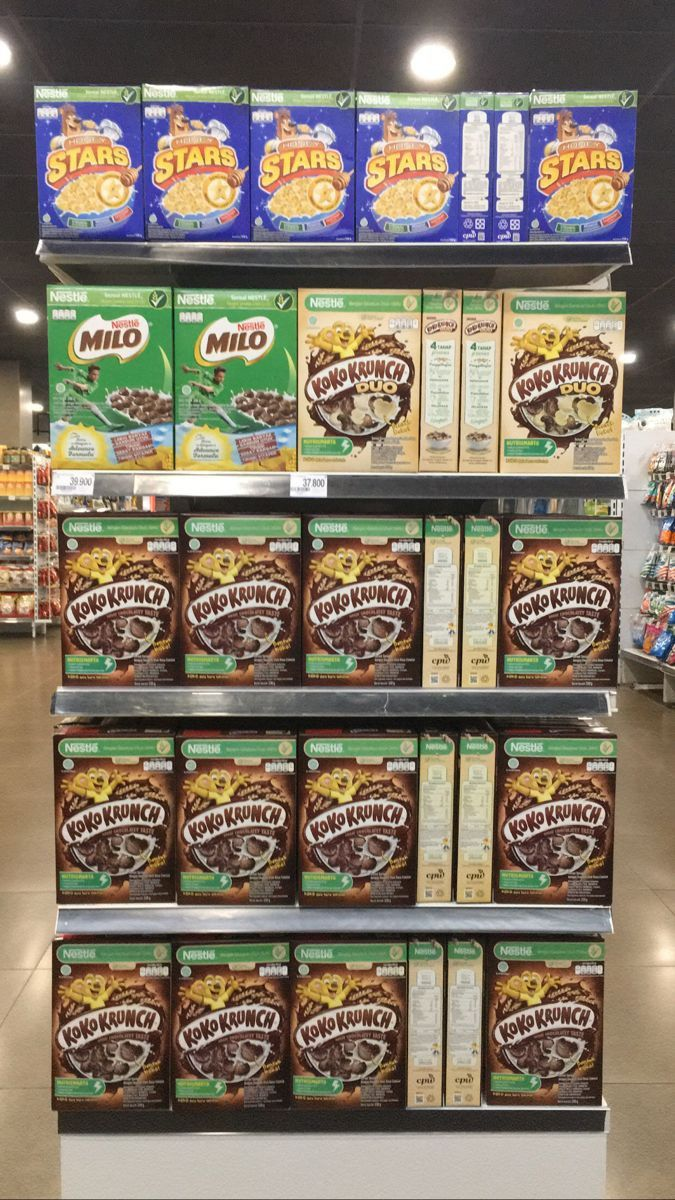Koko Krunch: (301, 497, 432, 703)
Milo: (161, 268, 315, 491)
Stars: (235, 71, 360, 251)
